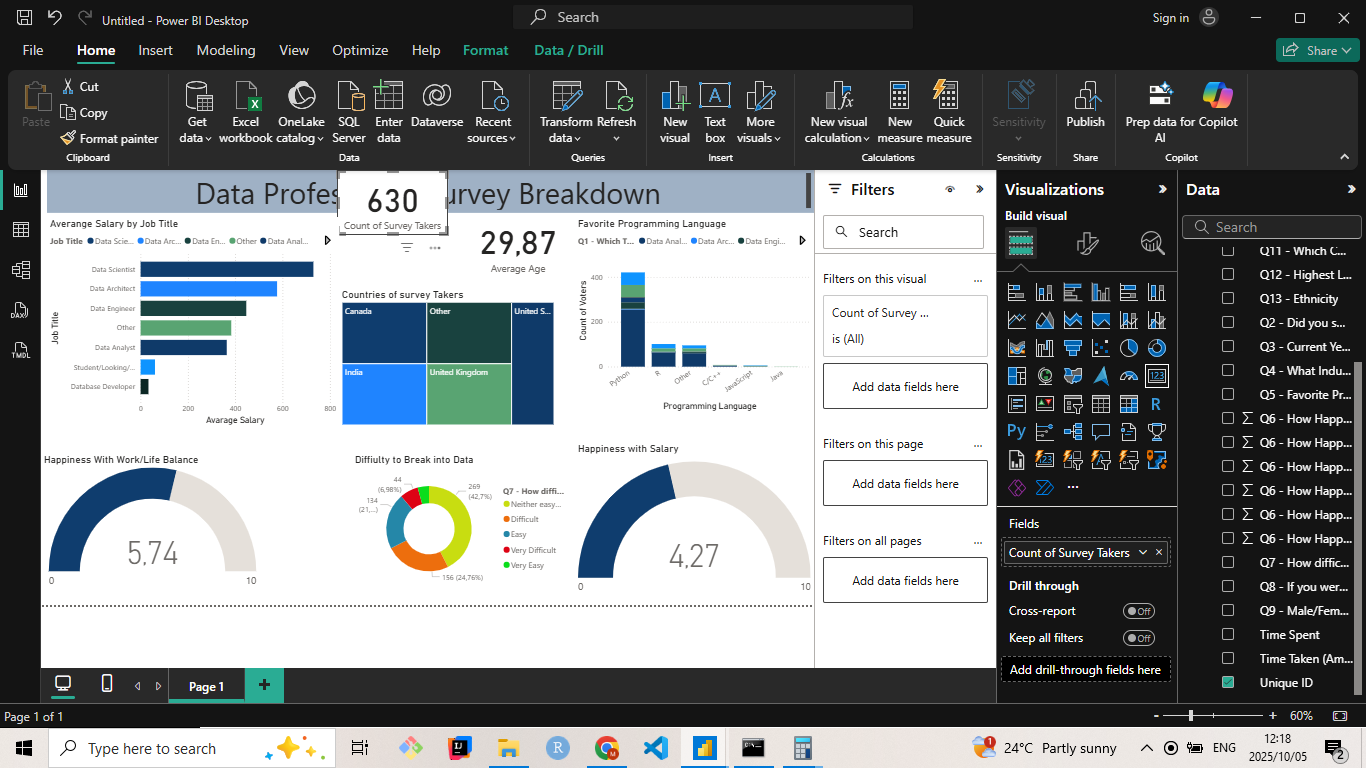

The page's visual inventory and layout, read from the dashboard file:
{"tool":"powerbi","page":{"name":"Page 1","canvas":[1280,720],"ordinal":0},"visuals":[{"type":"textbox","box":[10.1,0,1269.9,70.6],"z":0},{"type":"card","fields":{"Values":["CountNonNull(Data Professional Survey.Unique ID)"]},"box":[511.3,70.5,183.7,108.7],"z":1000},{"type":"card","fields":{"Values":["Avg(Data Professional Survey.Q10 - Current Age)"]},"box":[695,70.5,180.7,107.3],"z":2000},{"type":"barChart","title":"Averange Salary by Job Title","fields":{"Category":["Data Professional Survey.Q1 - Which Title Best Fits your Current Role?.1"],"Y":["Avg(Data Professional Survey.Avarage Salary)"],"Series":["Data Professional Survey.Q1 - Which Title Best Fits your Current Role?.1"]},"box":[0,77.9,493.7,395.3],"z":3000},{"type":"columnChart","title":"Favorite Programming Language","fields":{"Category":["Data Professional Survey.Q5 - Favorite Programming Language.1"],"Y":["CountNonNull(Data Professional Survey.Unique ID)"],"Series":["Data Professional Survey.Q1 - Which Title Best Fits your Current Role?.1"]},"box":[884.6,77.9,395.3,395.3],"z":4000},{"type":"treemap","title":"Countries of survey Takers","fields":{"Values":["Count(Data Professional Survey.Q11 - Which Country do you live in?.1)"],"Group":["Data Professional Survey.Q11 - Which Country do you live in?.1"]},"box":[514.3,216,360,232.2],"z":5000},{"type":"gauge","title":"Happiness With Work/Life Balance","fields":{"Y":["Avg(Data Professional Survey.Q6 - How Happy are you in your Current Position with the following? (Work/Life Balance))"],"MinValue":["Min(Data Professional Survey.Q6 - How Happy are you in your Current Position with the following? (Work/Life Balance))"],"MaxValue":["Max(Data Professional Survey.Q6 - How Happy are you in your Current Position with the following? (Work/Life Balance))1"]},"box":[0,487.8,401.1,232.2],"z":6000},{"type":"gauge","title":"Happiness with Salary","fields":{"Y":["Avg(Data Professional Survey.Q6 - How Happy are you in your Current Position with the following? (Salary))"],"MinValue":["Min(Data Professional Survey.Q6 - How Happy are you in your Current Position with the following? (Salary))"],"MaxValue":["Max(Data Professional Survey.Q6 - How Happy are you in your Current Position with the following? (Salary))"]},"box":[909.6,487.8,370.3,232.2],"z":7000},{"type":"donutChart","title":"Diffiulty to Break into Data","fields":{"Category":["Data Professional Survey.Q7 - How difficult was it for you to break into Data?"],"Y":["CountNonNull(Data Professional Survey.Q7 - How difficult was it for you to break into Data?)"]},"box":[464.3,487.8,361.5,232.2],"z":8000}]}

Visuals, with their boxes on the page's 1280x720 design canvas (x1, y1, x2, y2). These are canvas units, not pixel positions in the 1366x768 screenshot, which may show the page scaled, cropped or inside an application window:
textbox: [left=10, top=0, right=1280, bottom=71]
card - CountNonNull(Data Professional Survey.Unique ID): [left=511, top=70, right=695, bottom=179]
card - Avg(Data Professional Survey.Q10 - Current Age): [left=695, top=70, right=876, bottom=178]
"Averange Salary by Job Title" barChart: [left=0, top=78, right=494, bottom=473]
"Favorite Programming Language" columnChart: [left=885, top=78, right=1280, bottom=473]
"Countries of survey Takers" treemap: [left=514, top=216, right=874, bottom=448]
"Happiness With Work/Life Balance" gauge: [left=0, top=488, right=401, bottom=720]
"Happiness with Salary" gauge: [left=910, top=488, right=1280, bottom=720]
"Diffiulty to Break into Data" donutChart: [left=464, top=488, right=826, bottom=720]
